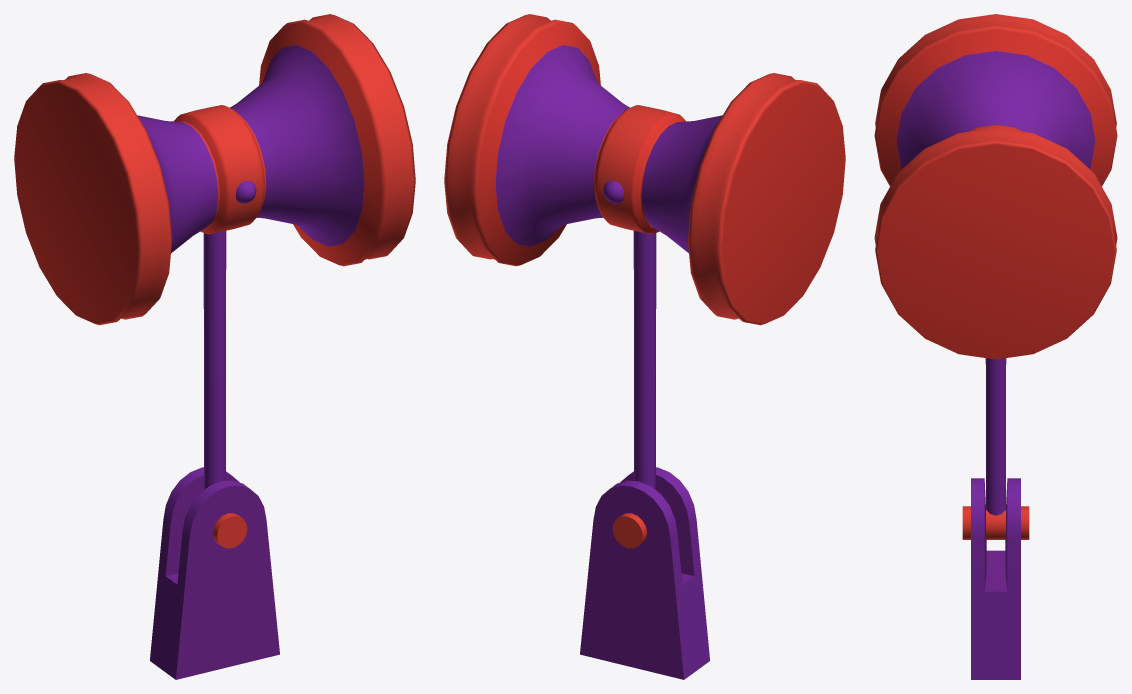
Rendered from PokemonMonster_Landing_HAMMER.fbx.
3 renders of one model, left to right at view 1: azimuth 30°, elevation 25°; view 2: azimuth 150°, elevation 25°; view 3: azimuth 270°, elevation 25°, orthographic. The views are drawn at different scales.
Visible parts, largest first — view 1: HAMMER, Base; view 2: HAMMER, Base; view 3: HAMMER, Base.
Boxes of the visible parts, x1,y1,x2,y2 form: HAMMER: (14,14,415,548); Base: (150,467,279,679); HAMMER: (444,14,845,548); Base: (580,467,709,679); HAMMER: (874,14,1117,539); Base: (971,478,1020,679).
Size of the model in its own units: 159 by 324 by 123.
Materials: 1 (1 with a texture image).
